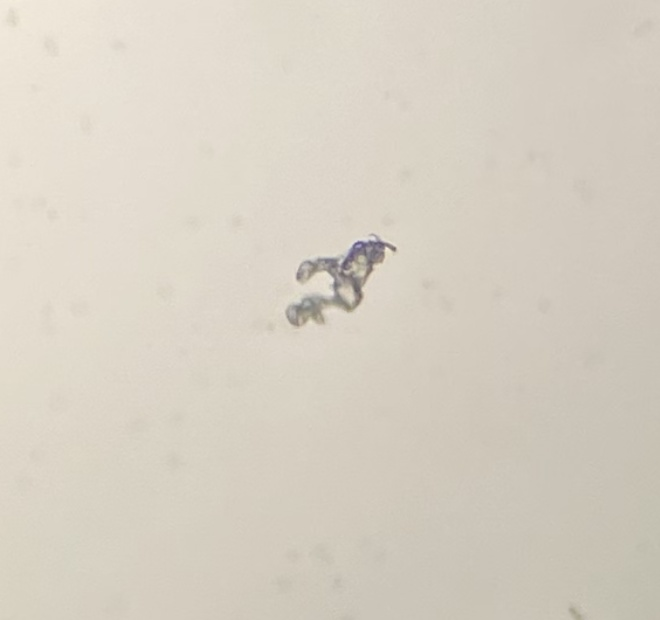microplastic: (284, 236, 398, 327)
